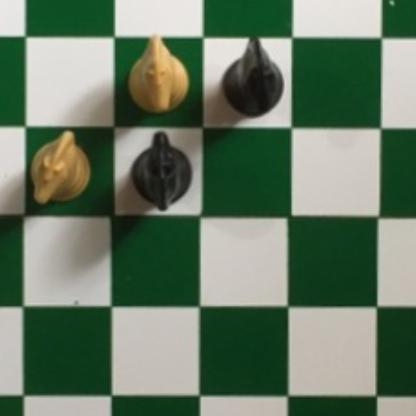black-knight: (221, 33, 286, 119), (130, 130, 195, 213)
white-knight: (123, 32, 188, 115), (28, 126, 90, 208)
